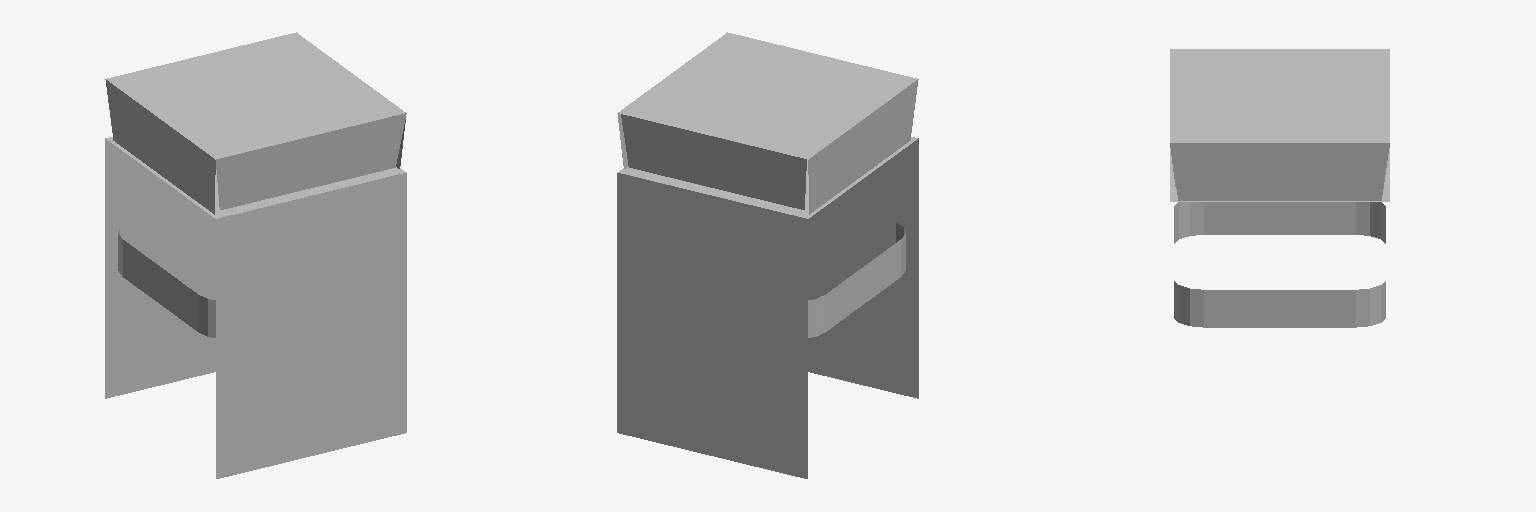
Rendered from stool.obj.
3 renders of one model, left to right at view 1: azimuth 30°, elevation 25°; view 2: azimuth 150°, elevation 25°; view 3: azimuth 270°, elevation 25°, orthographic.
Visible parts, largest first — view 1: Stool; view 2: Stool; view 3: Stool.
Part boxes in pixels (left/top/right/bottom): Stool: left=105, top=32, right=406, bottom=478; Stool: left=617, top=32, right=918, bottom=478; Stool: left=1170, top=49, right=1389, bottom=327.
Bounding box in the file's own units: 0.168 × 0.269 × 0.168.